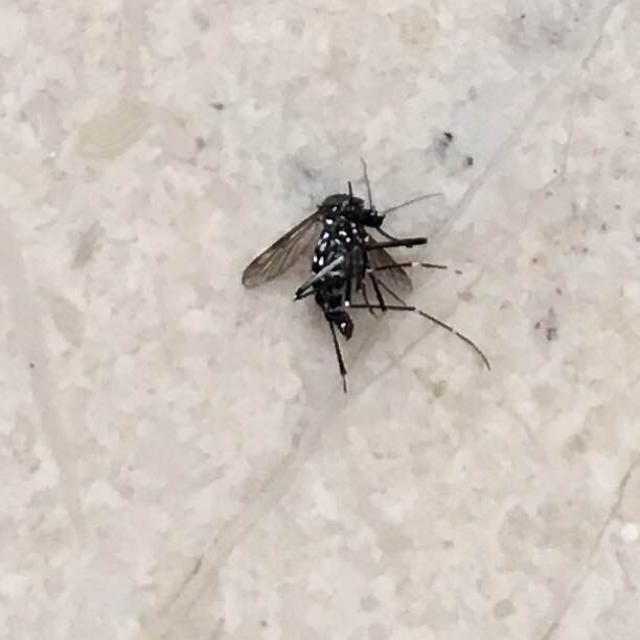albopictus: (241, 156, 501, 394)
